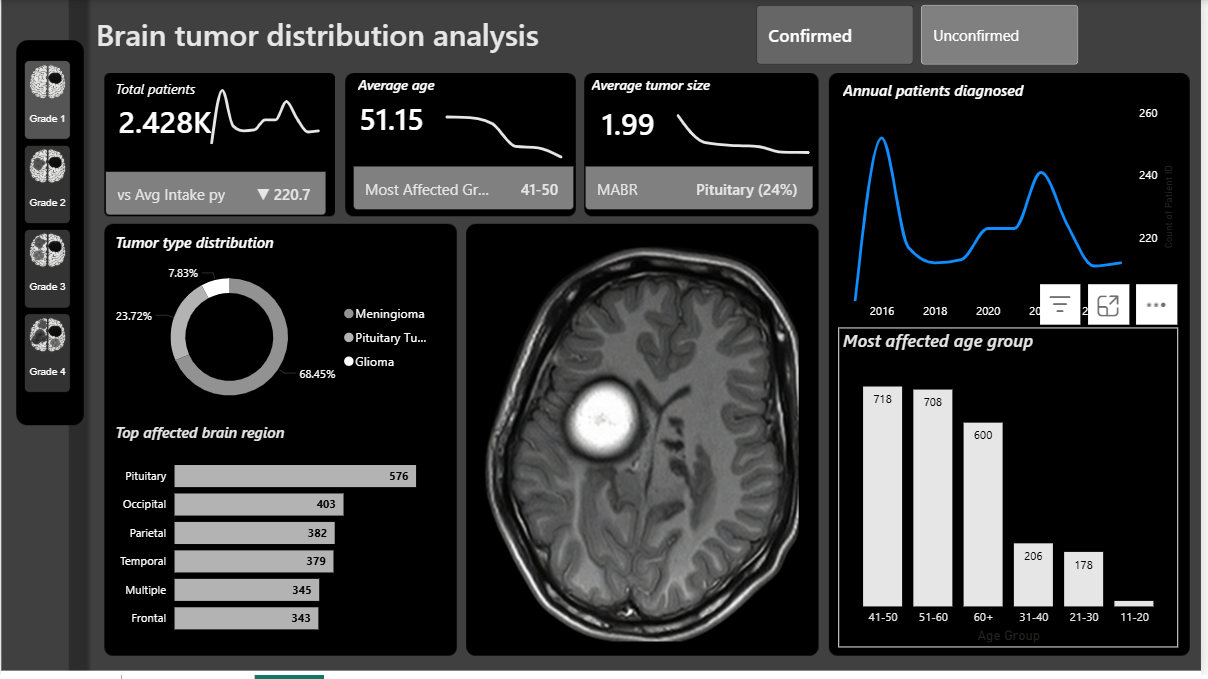

The page's visual inventory and layout, read from the dashboard file:
{"tool":"powerbi","page":{"name":"Page 1","canvas":[1280,720],"ordinal":0},"visuals":[{"type":"lineChart","fields":{"Category":["Brain Tumor Data.Date of Diagnosis.Variation.Date Hierarchy.Year"],"Y":["CountNonNull(Brain Tumor Data.Patient ID)"]},"box":[210,74,144,85],"z":0},{"type":"cardVisual","fields":{"Data":["Count(Brain Tumor Data.Patient ID)"]},"box":[97,79,187,97],"z":1000},{"type":"cardVisual","fields":{"Data":["Count(Brain Tumor Data.Patient ID)"]},"box":[82.6,84.5,292.9,173],"z":2000},{"type":"textbox","box":[118,78.6,202.5,55],"z":3000},{"type":"cardVisual","fields":{"Data":["Avg(Brain Tumor Data.Age)"]},"box":[353.9,74.7,188.7,98.3],"z":4000},{"type":"lineChart","fields":{"Y":["CountNonNull(Brain Tumor Data.Patient ID)"],"Category":["Brain Tumor Data.Age Group"]},"box":[460,106.2,151.4,68.8],"z":5000},{"type":"cardVisual","fields":{"Data":["Count(Brain Tumor Data.Patient ID)"]},"box":[348,78.6,292.9,173],"z":6000},{"type":"textbox","box":[375.5,74.7,292.9,59],"z":7000},{"type":"cardVisual","fields":{"Data":["Avg(Brain Tumor Data.Tumor Size (cm))"]},"box":[611.4,76.7,188.7,104.2],"z":8000},{"type":"lineChart","fields":{"Category":["Brain Tumor Data.Affected Brain Region"],"Y":["Sum(Brain Tumor Data.Tumor Size (cm))"]},"box":[705.8,106.2,171,68.8],"z":9000},{"type":"cardVisual","fields":{"Data":["Count(Brain Tumor Data.Patient ID)"]},"box":[595.7,78.6,300.8,173],"z":10000},{"type":"textbox","box":[625.2,74.7,232,59],"z":11000},{"type":"advancedSlicerVisual","fields":{"Values":["Brain Tumor Data.Histology Confirmation"]},"box":[800.2,0,355.8,74.7],"z":12000},{"type":"ChicletSlicer1448559807354","fields":{"Category":["Tumor Images.Tumor Grade"],"Image":["Tumor Images.Icon URL"]},"box":[17.7,57,64.9,379.4],"z":13000},{"type":"imageDB603108E3FF4EBFB8047F5653368E8C","fields":{"imageUrl":["Tumor Images.Image URL"]},"box":[509.2,257.5,348,432.5],"z":14000},{"type":"donutChart","title":"Tumor type distribution","fields":{"Category":["Brain Tumor Data.Tumor Type"],"Y":["CountNonNull(Brain Tumor Data.Patient ID)"]},"box":[118,247.7,357.8,202.5],"z":15000},{"type":"clusteredBarChart","title":"Top affected brain region","fields":{"Y":["CountNonNull(Brain Tumor Data.Patient ID)"],"Category":["Brain Tumor Data.Affected Brain Region"]},"box":[118,450.2,357.8,239.9],"z":16000},{"type":"lineChart","title":"Annual patients diagnosed","fields":{"Category":["Brain Tumor Data.Date of Diagnosis.Variation.Date Hierarchy.Year"],"Y2":["CountNonNull(Brain Tumor Data.Patient ID)"]},"box":[892.6,84.5,363.7,265.4],"z":17000},{"type":"clusteredColumnChart","title":"Most affected age group","fields":{"Category":["Brain Tumor Data.Age Group"],"Y":["CountNonNull(Brain Tumor Data.Patient ID)"]},"box":[893,350,364,341],"z":18000},{"type":"textbox","box":[96.3,9.8,524.9,64.9],"z":19000}]}

Visuals, with their boxes in screenshot pixels (x1, y1, x2, y2), scaled from the page's 1280x720 canvas onto the 1208x679 screenshot:
lineChart - Brain Tumor Data.Date of Diagnosis.Variation.Date Hierarchy.Year x CountNonNull(Brain Tumor Data.Patient ID): 198,70,334,150
cardVisual - Count(Brain Tumor Data.Patient ID): 92,75,268,166
cardVisual - Count(Brain Tumor Data.Patient ID): 78,80,354,243
textbox: 111,74,302,126
cardVisual - Avg(Brain Tumor Data.Age): 334,70,512,163
lineChart - CountNonNull(Brain Tumor Data.Patient ID) x Brain Tumor Data.Age Group: 434,100,577,165
cardVisual - Count(Brain Tumor Data.Patient ID): 328,74,605,237
textbox: 354,70,631,126
cardVisual - Avg(Brain Tumor Data.Tumor Size (cm)): 577,72,755,171
lineChart - Brain Tumor Data.Affected Brain Region x Sum(Brain Tumor Data.Tumor Size (cm)): 666,100,827,165
cardVisual - Count(Brain Tumor Data.Patient ID): 562,74,846,237
textbox: 590,70,809,126
advancedSlicerVisual - Brain Tumor Data.Histology Confirmation: 755,0,1091,70
ChicletSlicer1448559807354 - Tumor Images.Tumor Grade x Tumor Images.Icon URL: 17,54,78,412
imageDB603108E3FF4EBFB8047F5653368E8C - Tumor Images.Image URL: 481,243,809,651
"Tumor type distribution" donutChart: 111,234,449,425
"Top affected brain region" clusteredBarChart: 111,425,449,651
"Annual patients diagnosed" lineChart: 842,80,1186,330
"Most affected age group" clusteredColumnChart: 843,330,1186,652
textbox: 91,9,586,70
